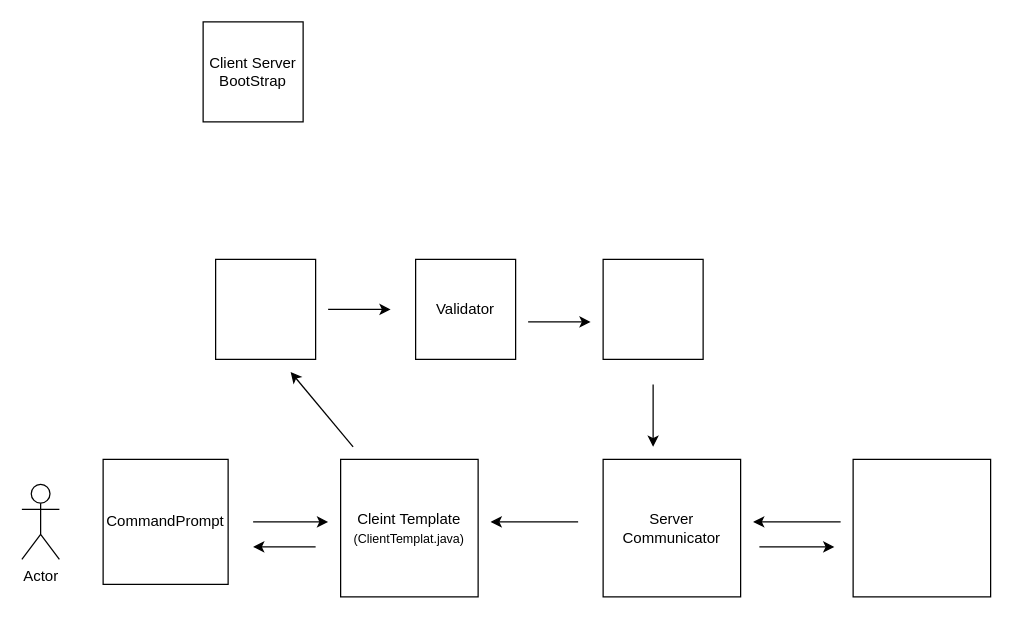
Some shapes in this 1013 by 619 pixel diagram are drawn without their labels. Each missing label, with the box of its shape:
Create messanger: (602, 258, 703, 359)
Input Analyzer: (214, 258, 316, 359)
Server: (852, 458, 991, 597)
